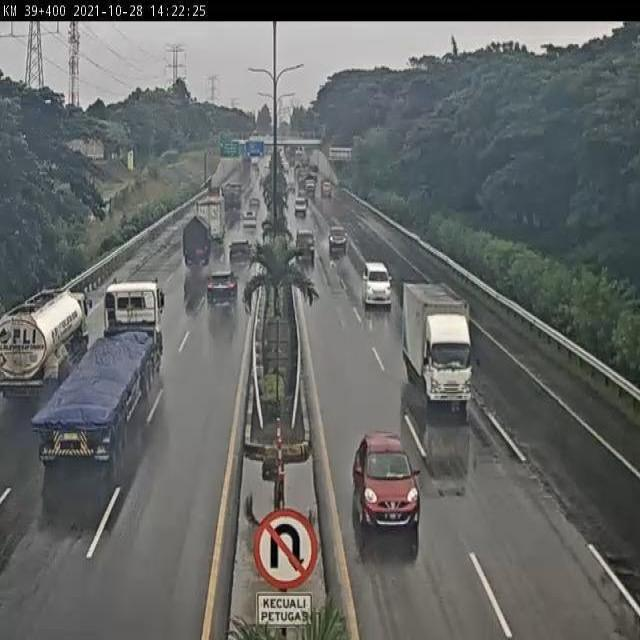car: (352, 428, 419, 536), (206, 270, 239, 310)
truck: (26, 278, 166, 470), (399, 276, 476, 420), (0, 284, 92, 397), (179, 216, 214, 273), (193, 199, 225, 248)
